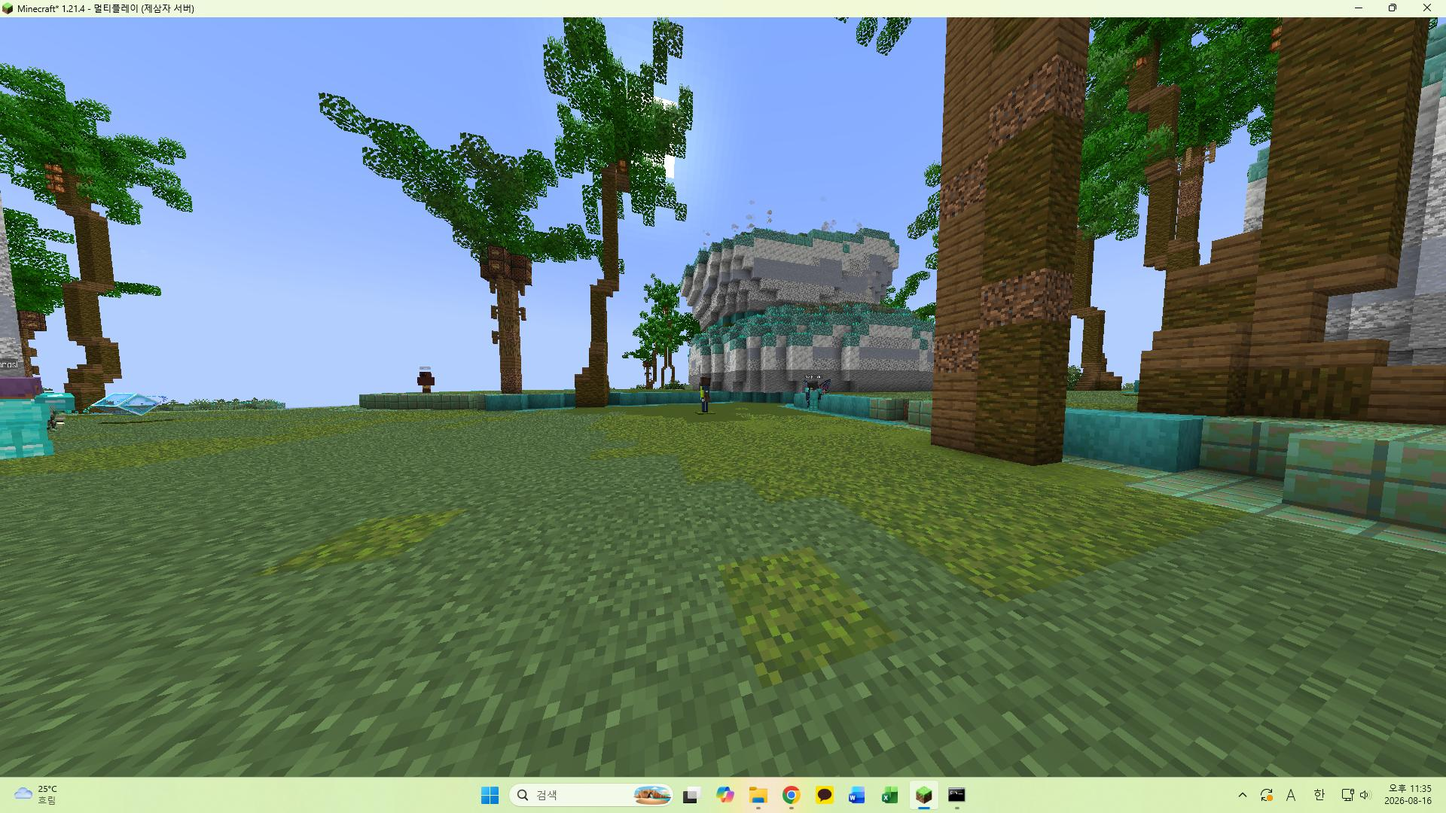Guardian: (697, 376, 714, 415)
